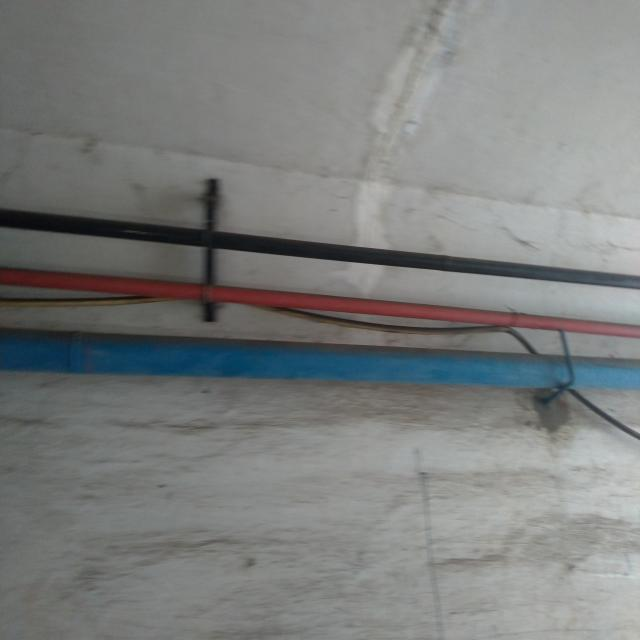gas: (7, 208, 636, 289), (7, 267, 637, 335), (9, 331, 633, 385)
